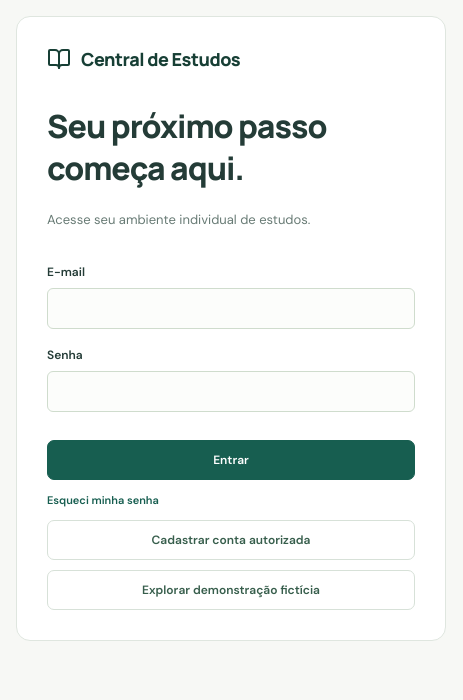
Test: cadastra sem enviar papel administrativo e pede confirmação por e-mail
The image size is (463, 700).
expect the button "Entrar" is shown: met, box [47, 440, 415, 480]
Click the button "Cadastrar conta autorizada": (231, 540) [47, 520, 415, 560]
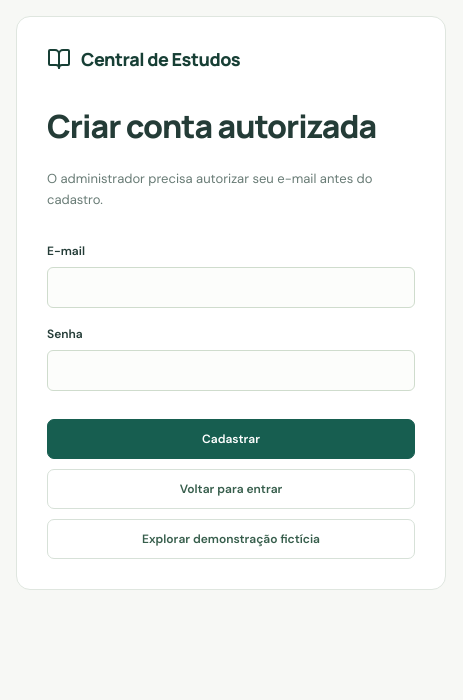
In the field labelled "E-mail": (231, 288) [47, 268, 415, 308], type "new@example.test"
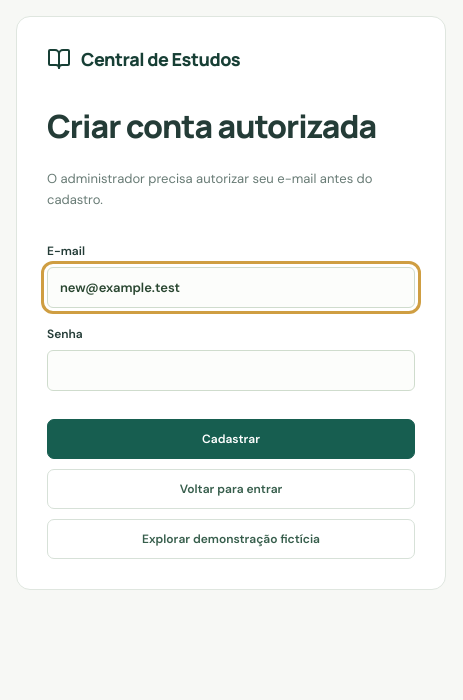
In the password field labelled "Senha": (231, 371) [47, 350, 415, 392], type "longpassword123"
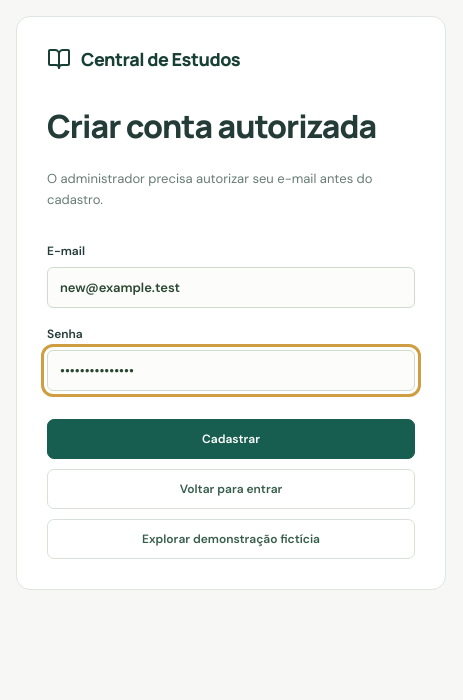
Click the button "Cadastrar": (231, 440) [47, 420, 415, 460]
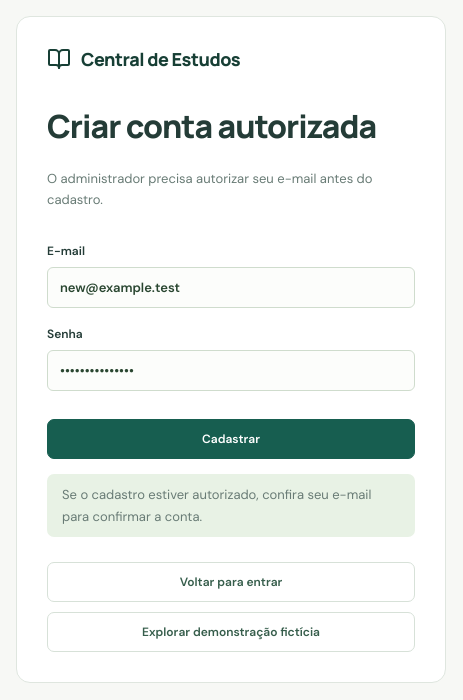
expect the message "Se o cadastro estiver autorizado, confira seu e-mail para confirmar a conta." is shown: met, box [47, 474, 415, 537]
